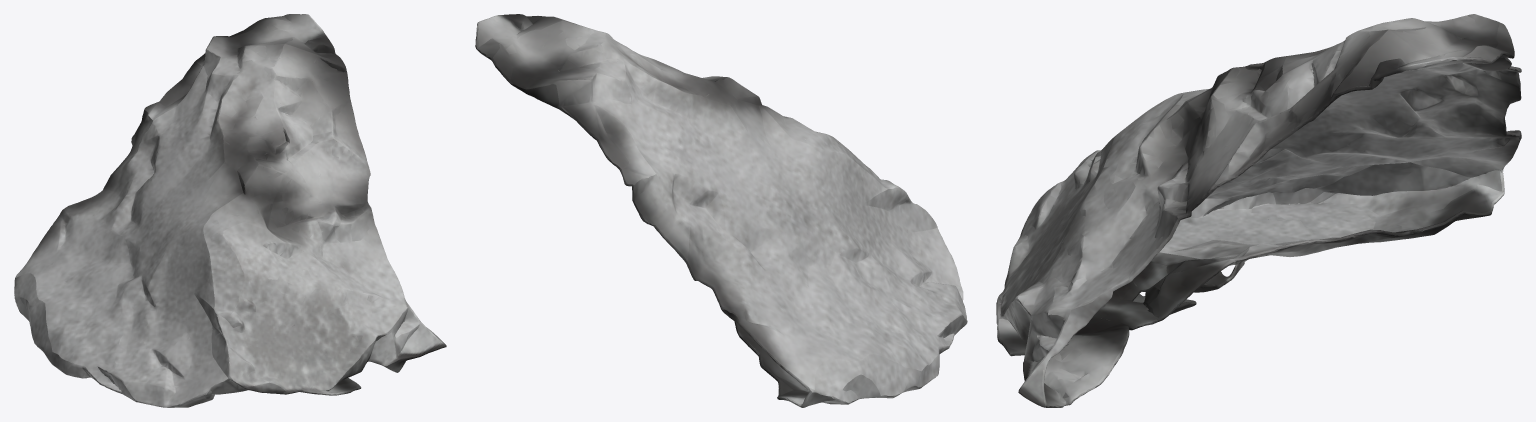
3 renders of one model, left to right at view 1: azimuth 30°, elevation 25°; view 2: azimuth 150°, elevation 25°; view 3: azimuth 270°, elevation 25°, orthographic. The views are drawn at different scales.
Visible parts, largest first — view 1: world; view 2: world; view 3: world.
Part boxes in pixels (bbox=[...]): world: bbox=[14, 14, 446, 407]; world: bbox=[475, 14, 967, 407]; world: bbox=[996, 14, 1521, 407].
Bounding box in the file's own units: 0.32 × 0.2483 × 0.3197.
1 material, 1 textured.
